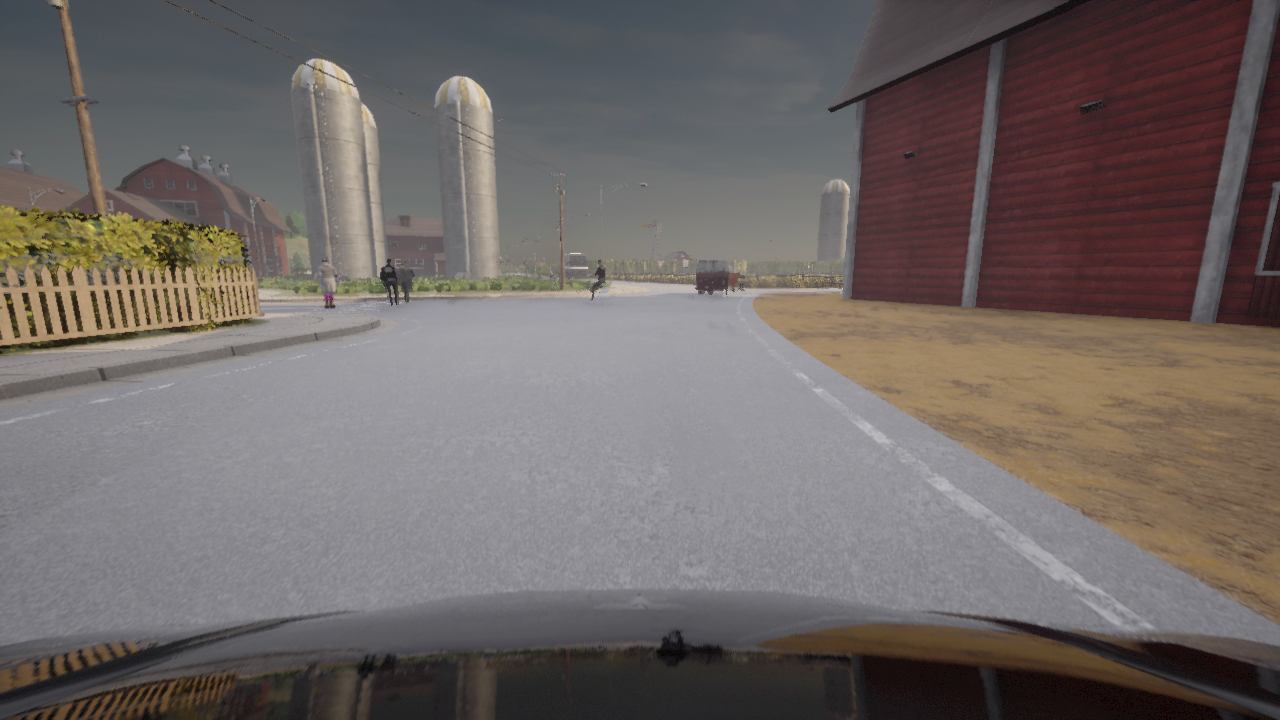cyclist: (0, 588, 1279, 719), (696, 259, 739, 295), (579, 276, 614, 304), (557, 252, 591, 279), (730, 273, 746, 291), (333, 269, 349, 280), (294, 268, 311, 275)
pedestrian: (317, 258, 338, 306), (381, 258, 397, 306), (398, 261, 415, 302), (546, 260, 560, 291), (586, 271, 592, 289), (405, 294, 406, 298)
